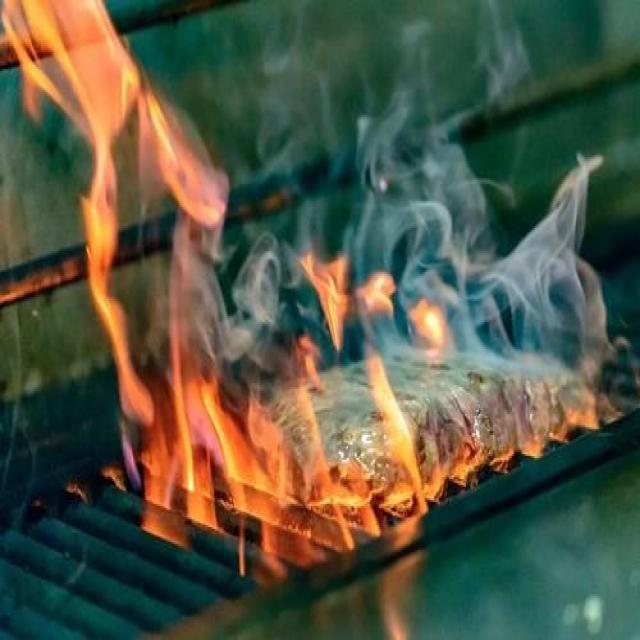Fire: (0, 0, 610, 579)
Smoke: (334, 48, 612, 350)
